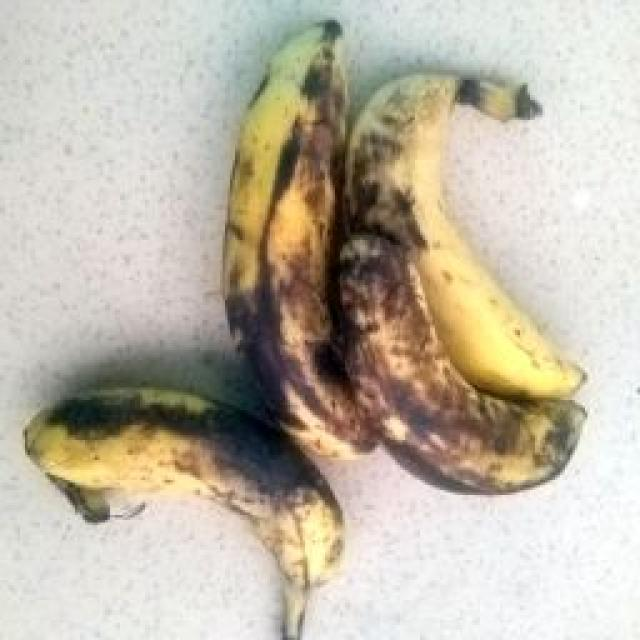banana: (159, 33, 565, 571)
